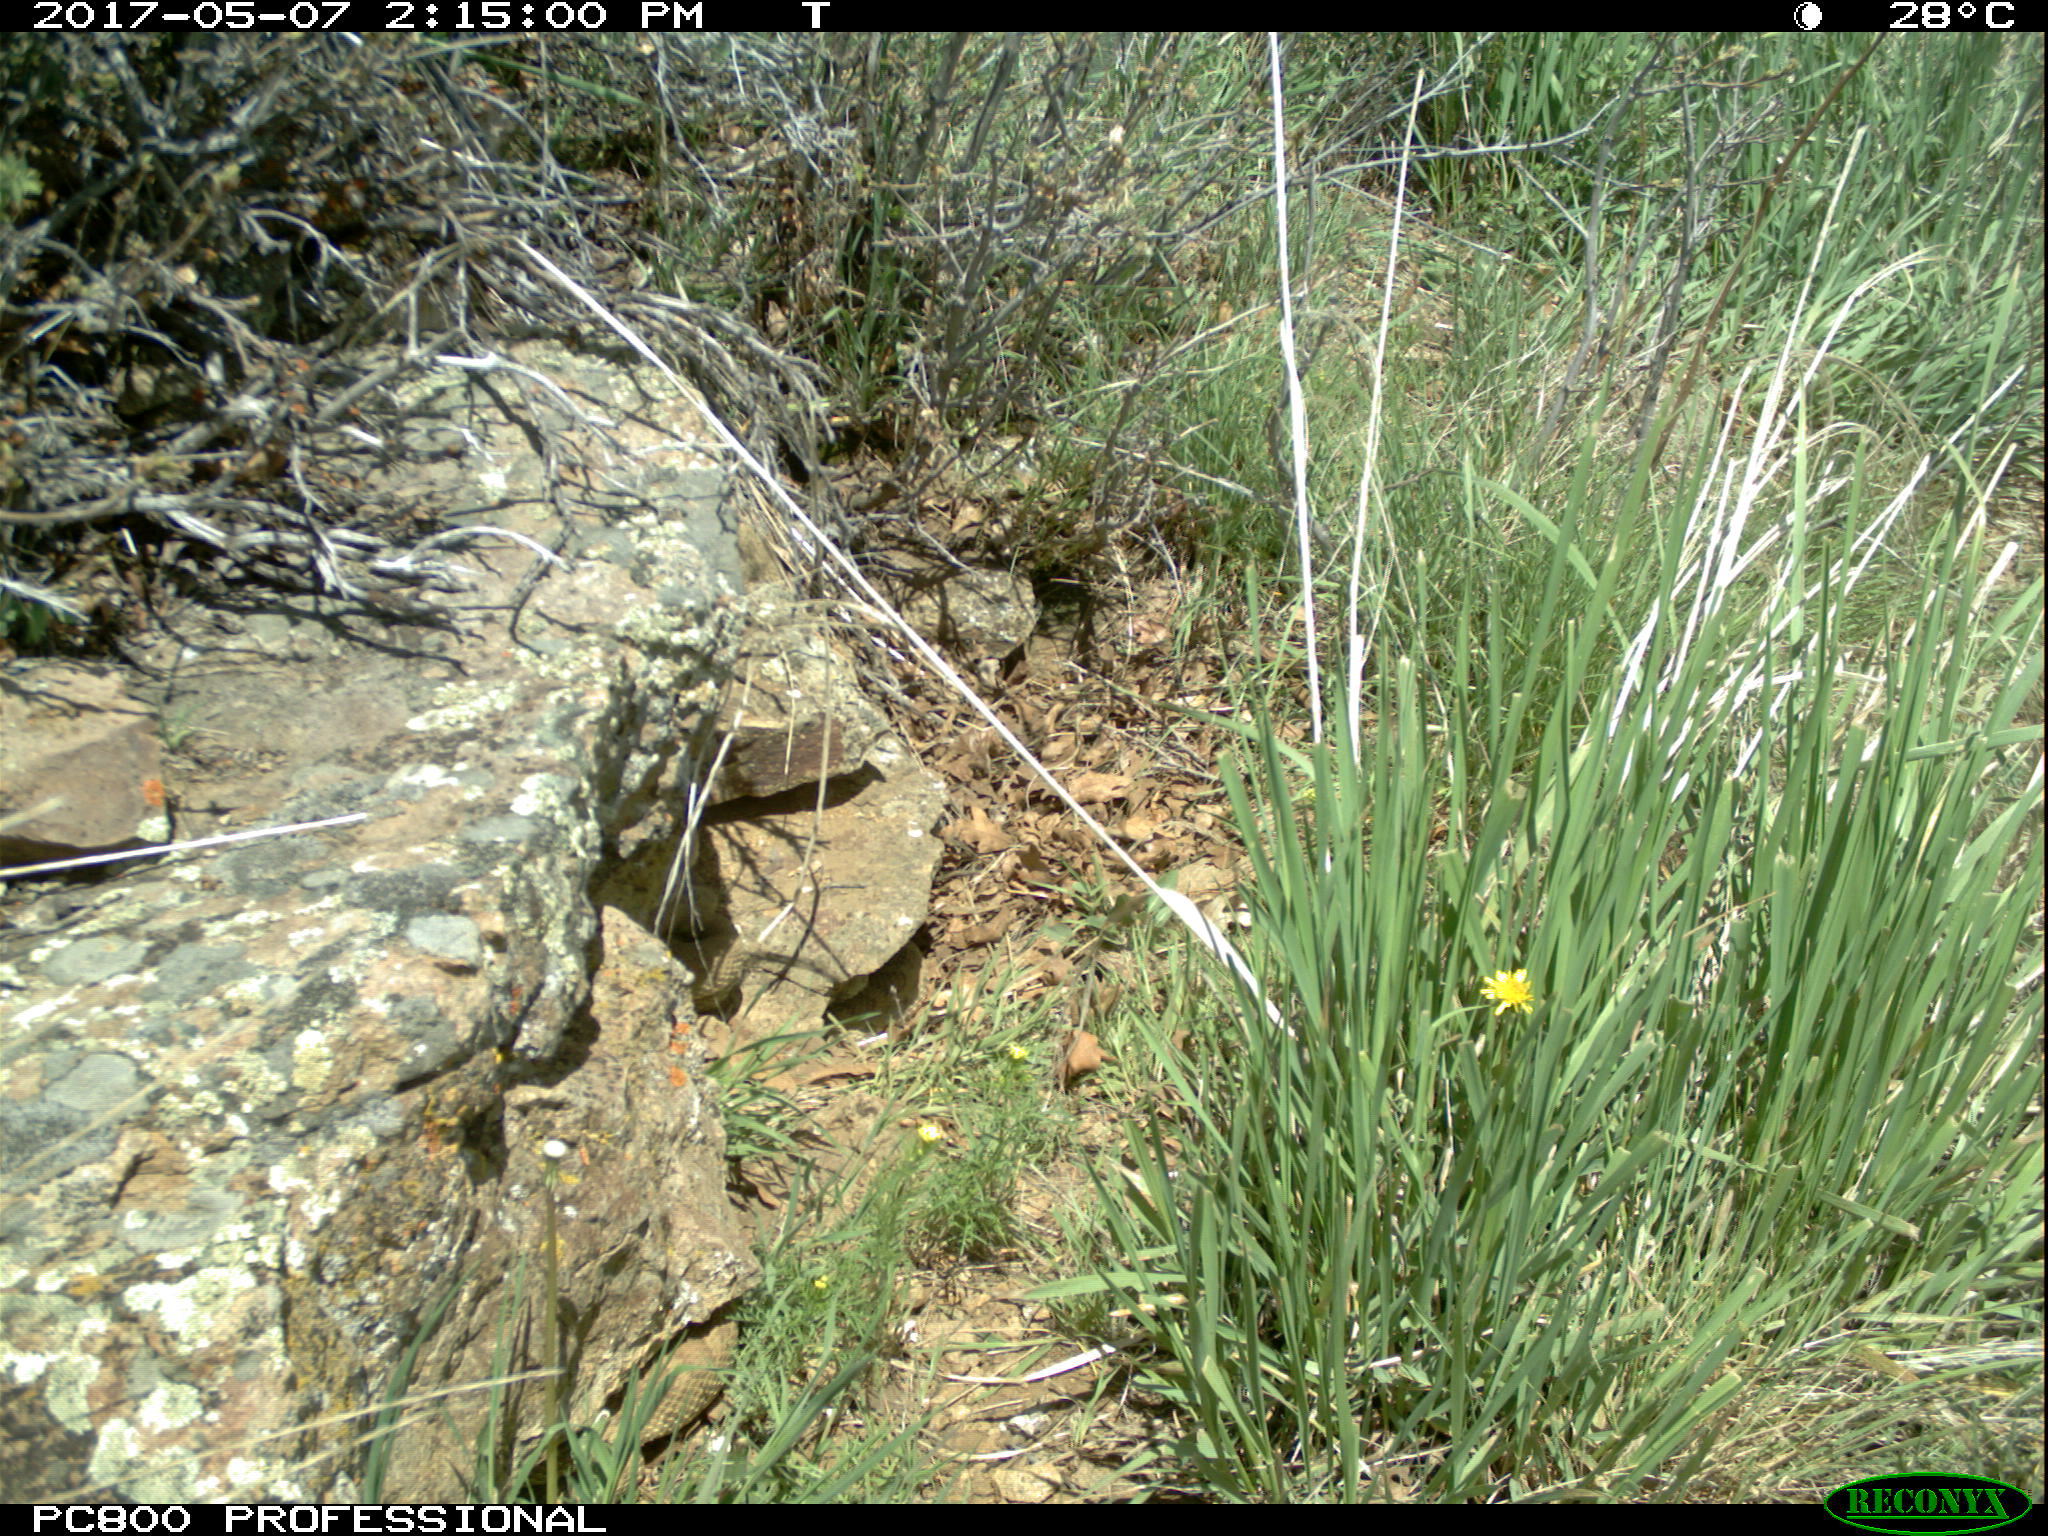snake: (666, 929, 780, 1005)
